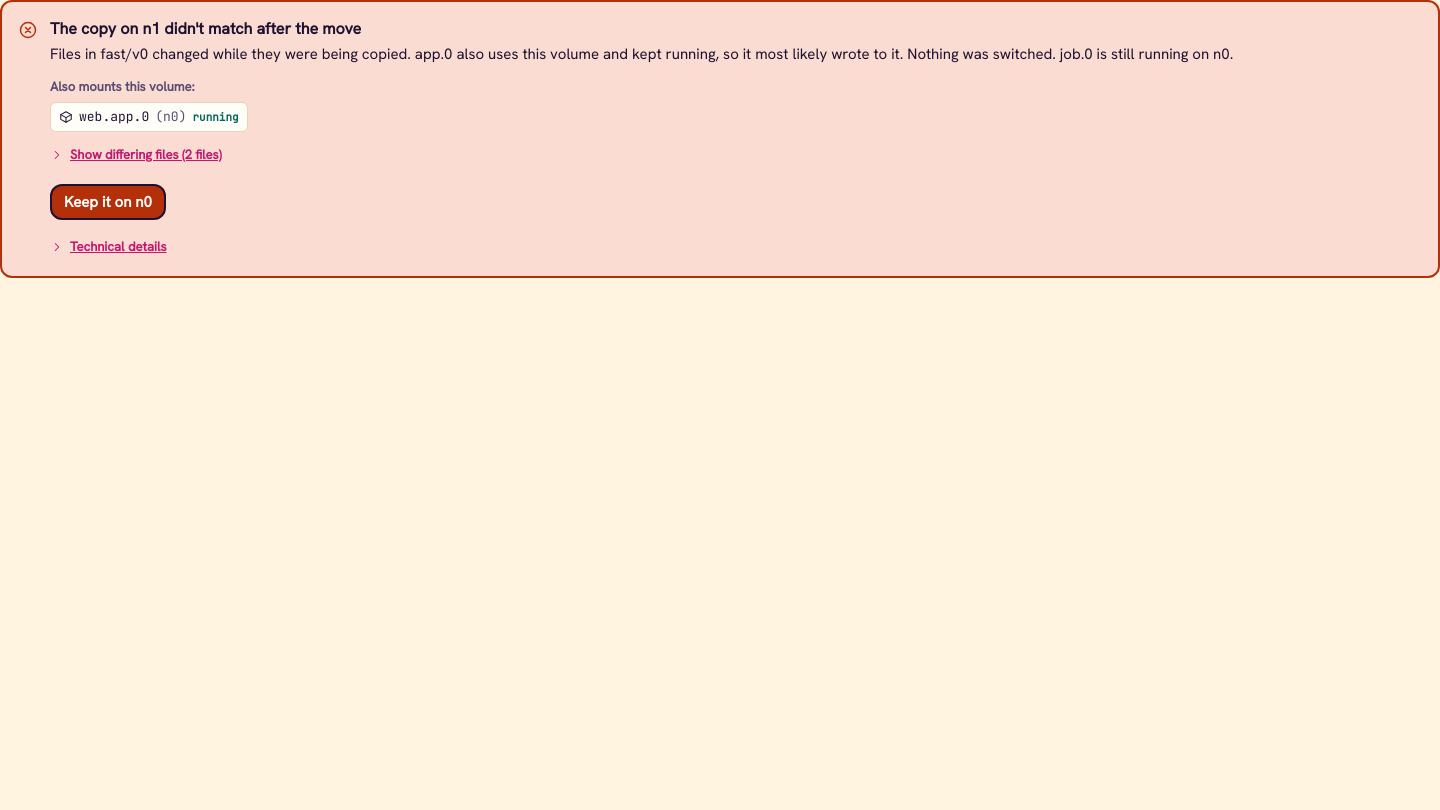
Scenario: MigrationProblem › asks for confirmation before firing a danger action, and does nothing on cancel
Click the button "Keep it on n0": (108, 202) [50,184,166,220]
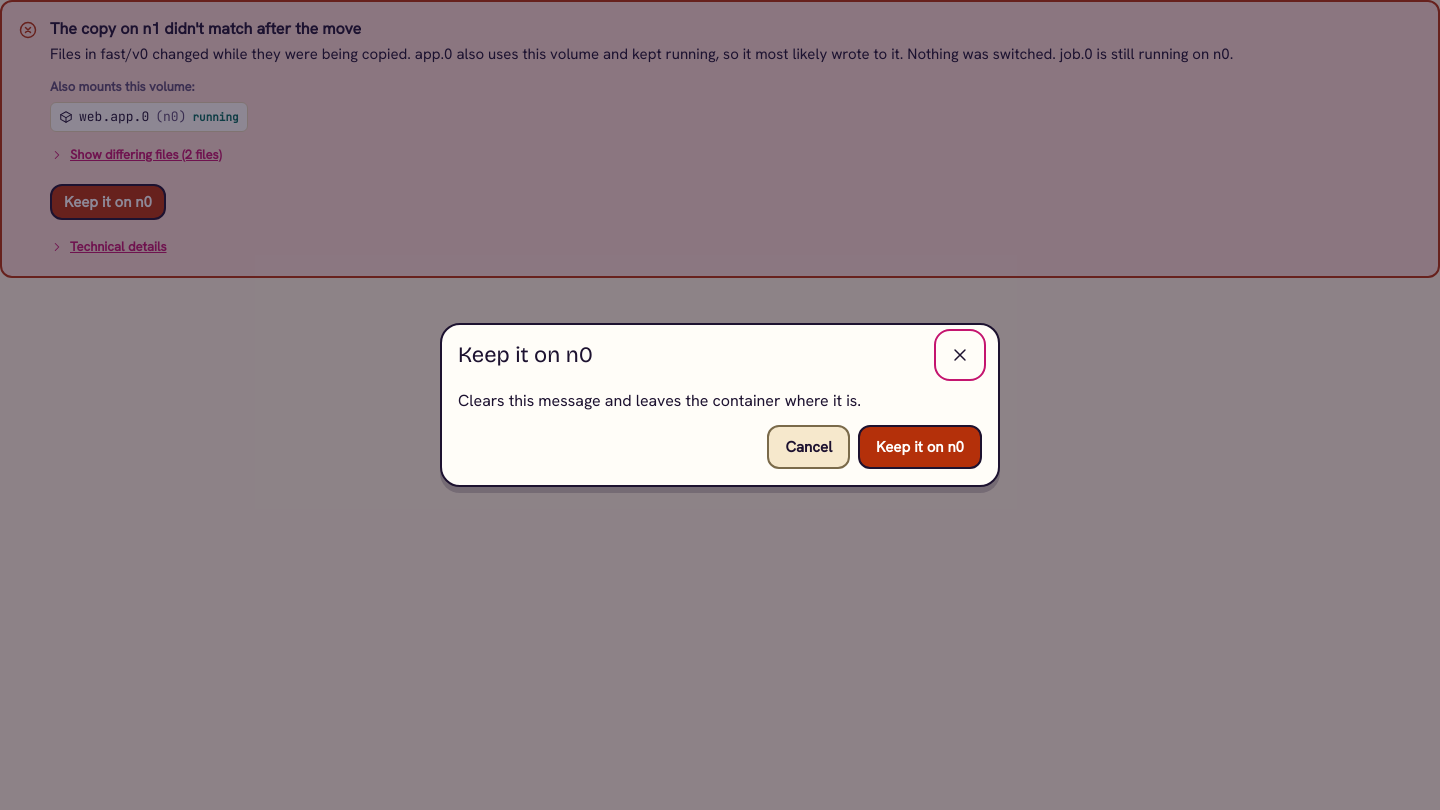
Click the button "Cancel": (809, 447) [767,425,850,469]
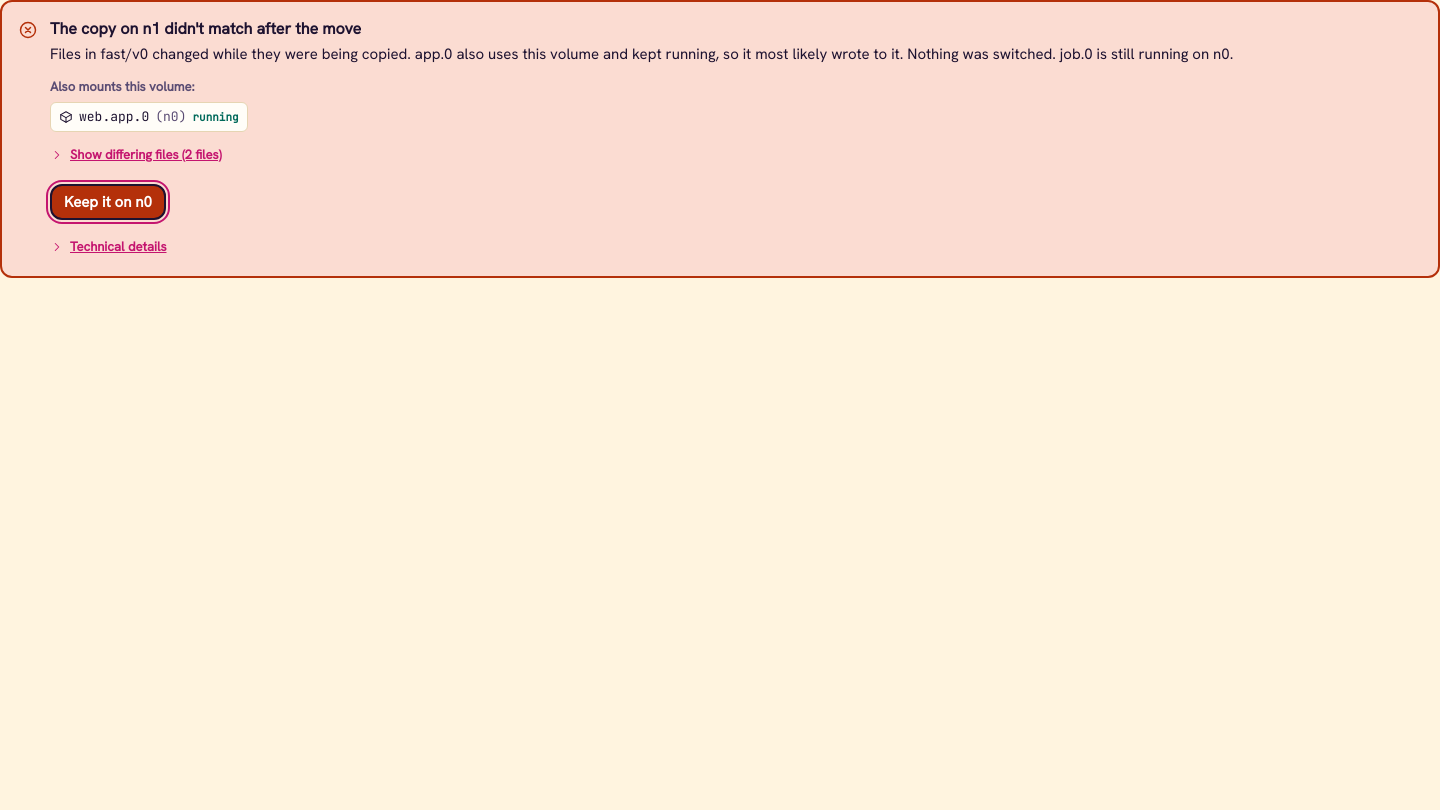
Expected: the dialog is gone
